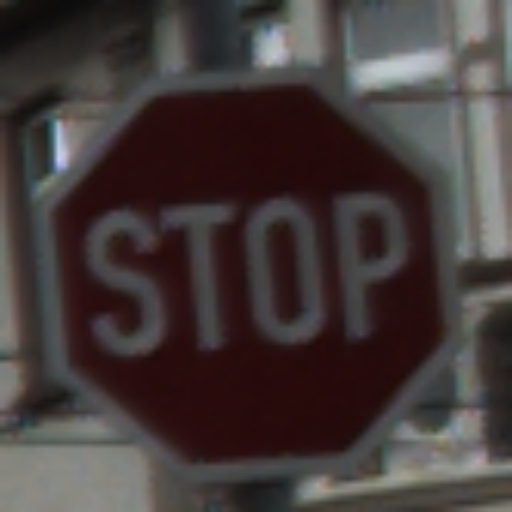Stop: (54, 91, 442, 443)
